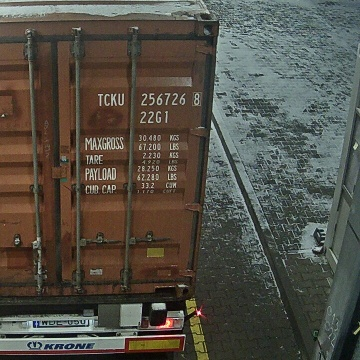serial_id: (98, 93, 200, 106)
